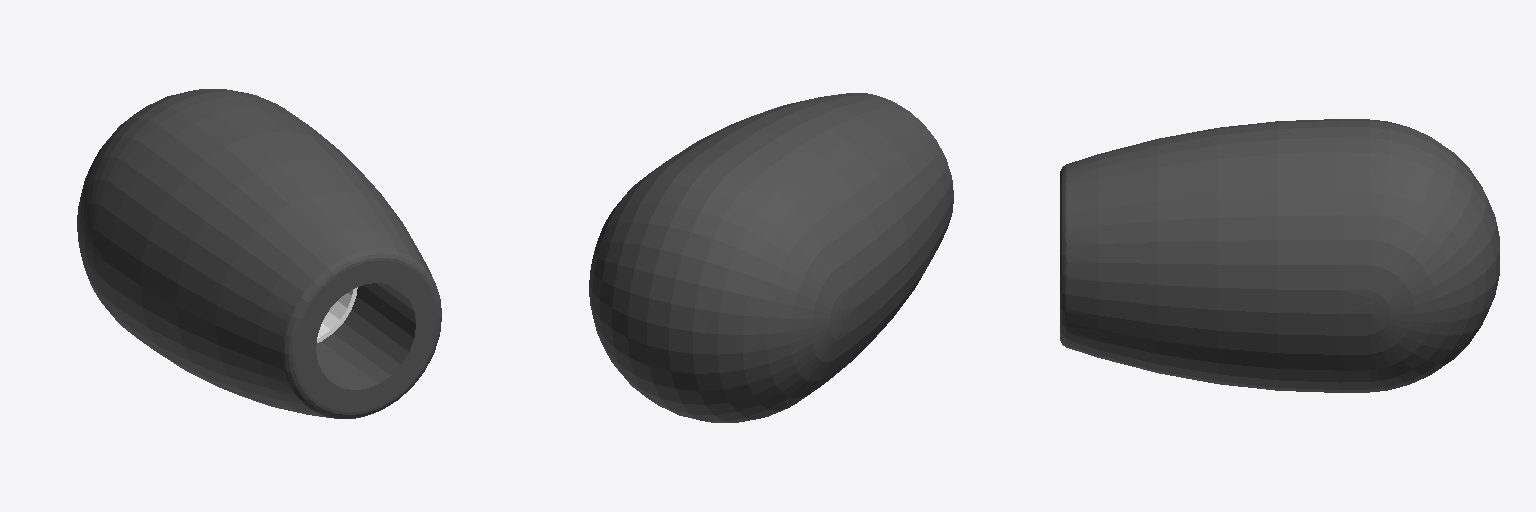
File: ganter_gn_719_1-26-b10.obj
3 renders of one model, left to right at view 1: azimuth 30°, elevation 25°; view 2: azimuth 150°, elevation 25°; view 3: azimuth 270°, elevation 25°, orthographic.
Parts seen in each view (by area): view 1: ganter_gn_719_1-26-b10_1; view 2: ganter_gn_719_1-26-b10_1; view 3: ganter_gn_719_1-26-b10_1.
Part boxes in pixels (bbox=[...]): ganter_gn_719_1-26-b10_1: bbox=[77, 89, 441, 418]; ganter_gn_719_1-26-b10_1: bbox=[589, 93, 953, 422]; ganter_gn_719_1-26-b10_1: bbox=[1060, 119, 1499, 392].
Bounding box in the file's own units: 26.09 × 25.98 × 41.89.